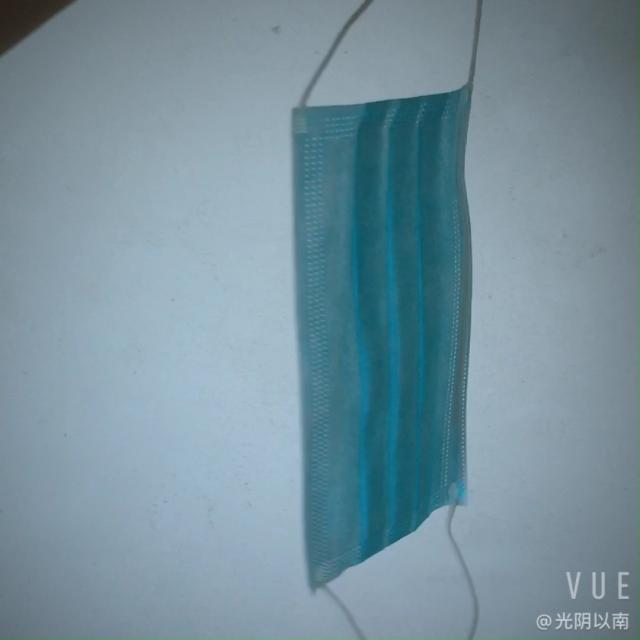face mask: (256, 68, 506, 590)
